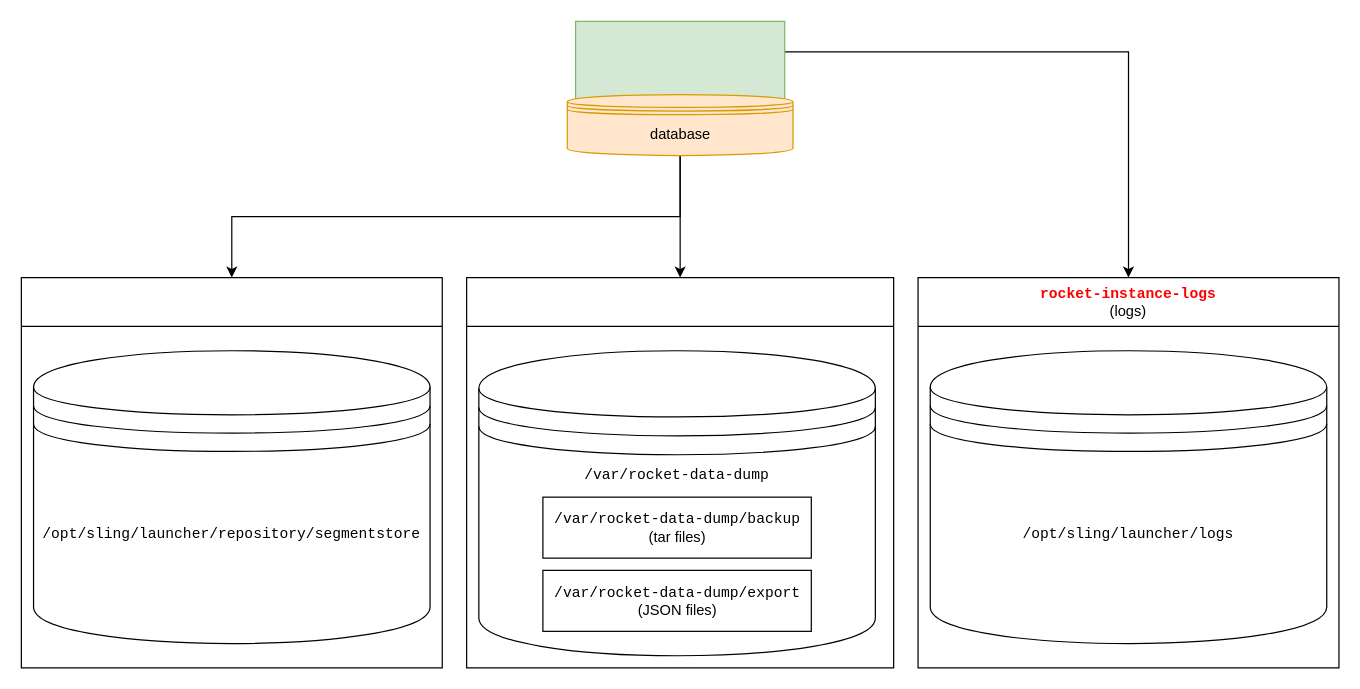
Some shapes in this 1360 by 689 pixel diagram are drawn without their labels. The shapes that lost their labels are listed below. From the top down, each one's box as (x1, y1, x2, y2) in pixels, then its label:
(574, 20, 785, 143): SR Instance
(20, 276, 442, 668): rocket-data-raw (persistence files)
(465, 276, 894, 668): rocket-data-dump (database dumps)
